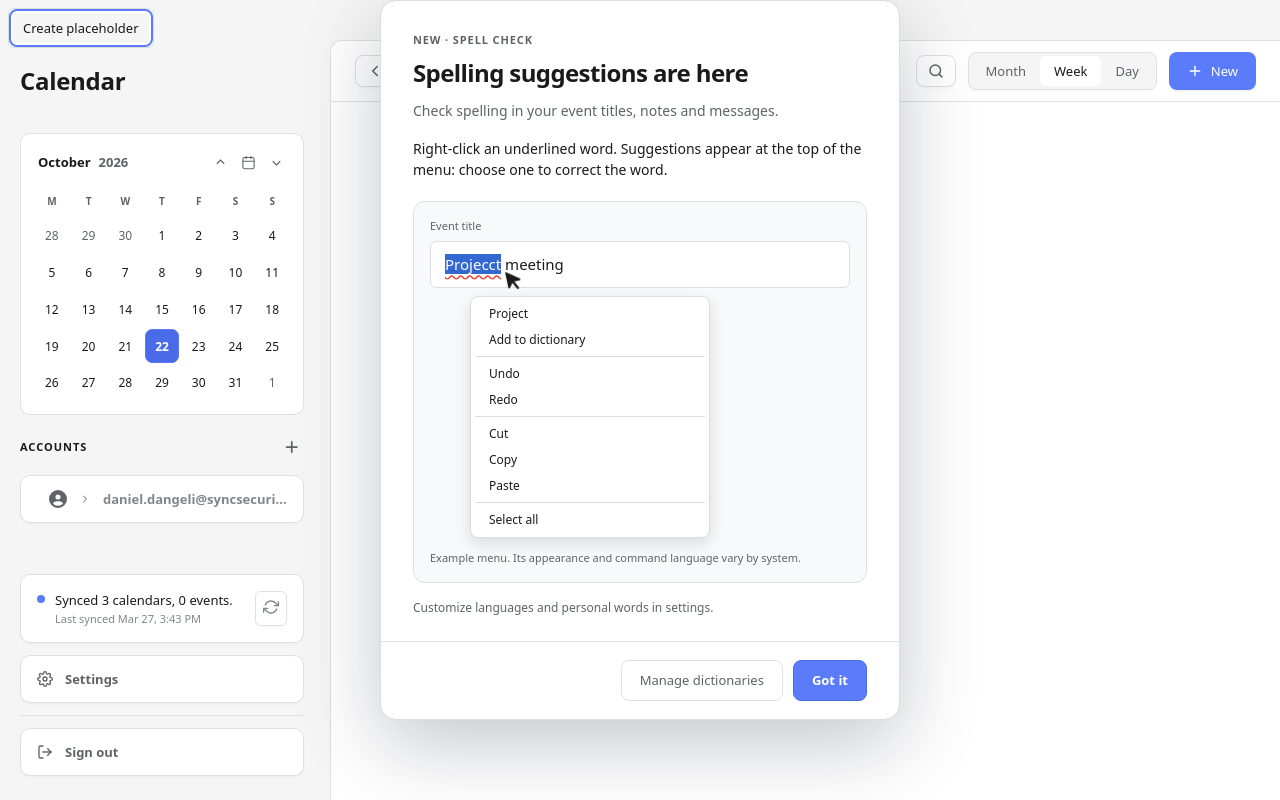
app startup › creates a placeholder with title '  Preparazione riunione  ' as 'Preparazione riunione' in en
The image size is (1280, 800).
Click the menu item "Create placeholder" at (81, 28), box [13, 13, 148, 43]
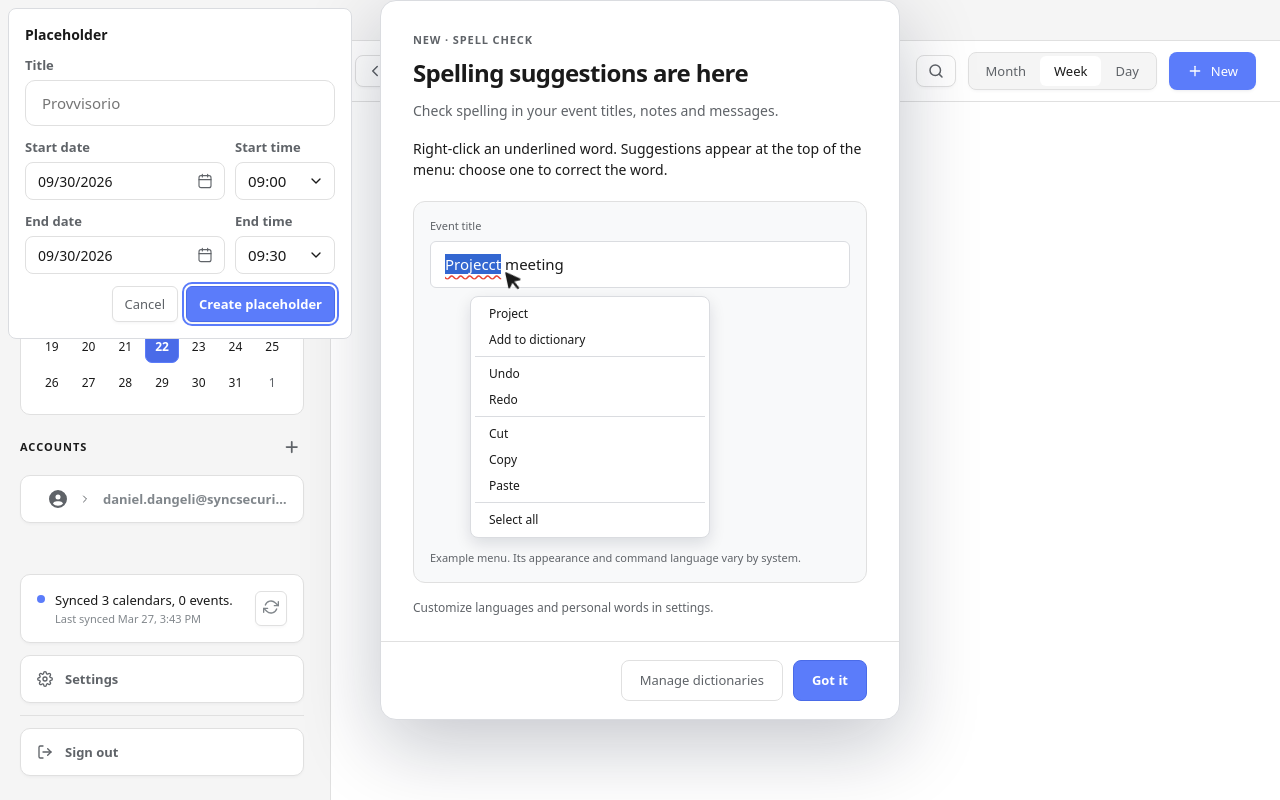
Type "  Preparazione riunione  " into the field labelled "Title" at (180, 103), box [25, 80, 335, 126]
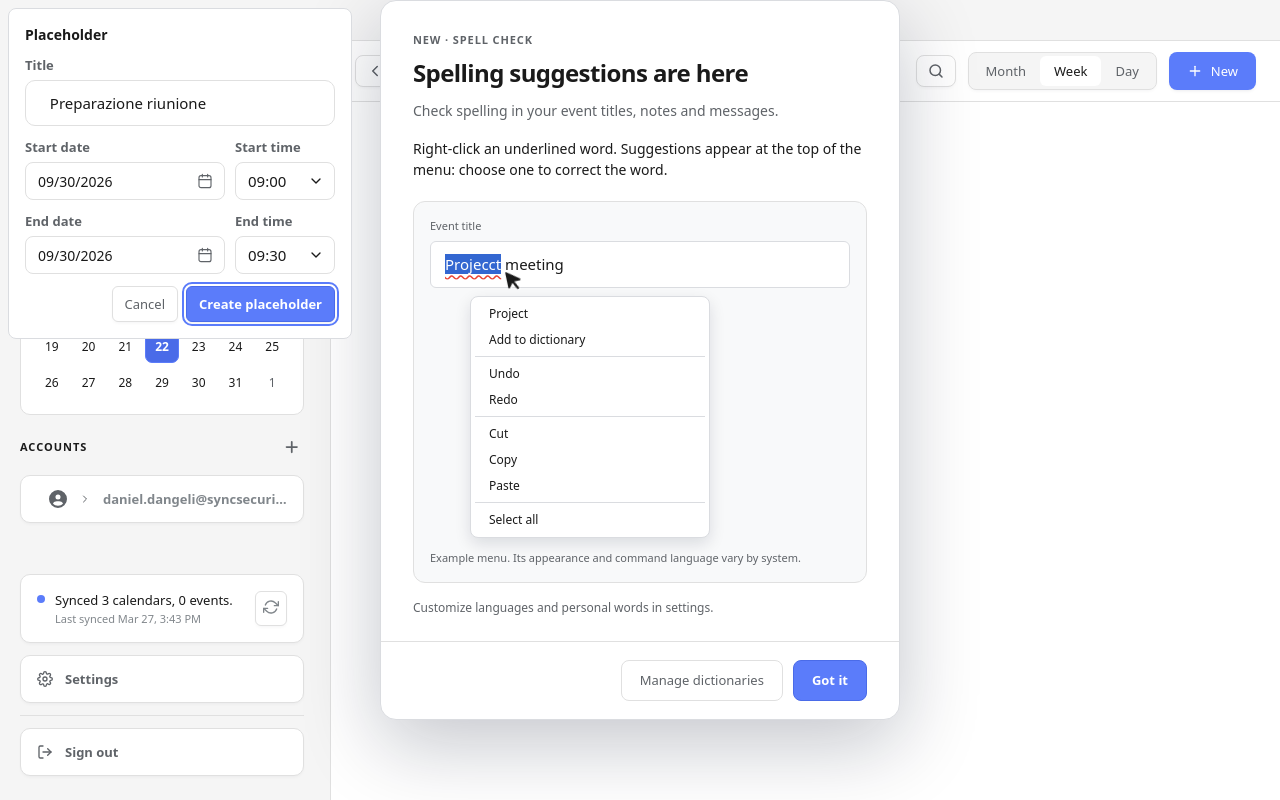
Click the button "Create placeholder" at (260, 304), box [186, 286, 335, 322]
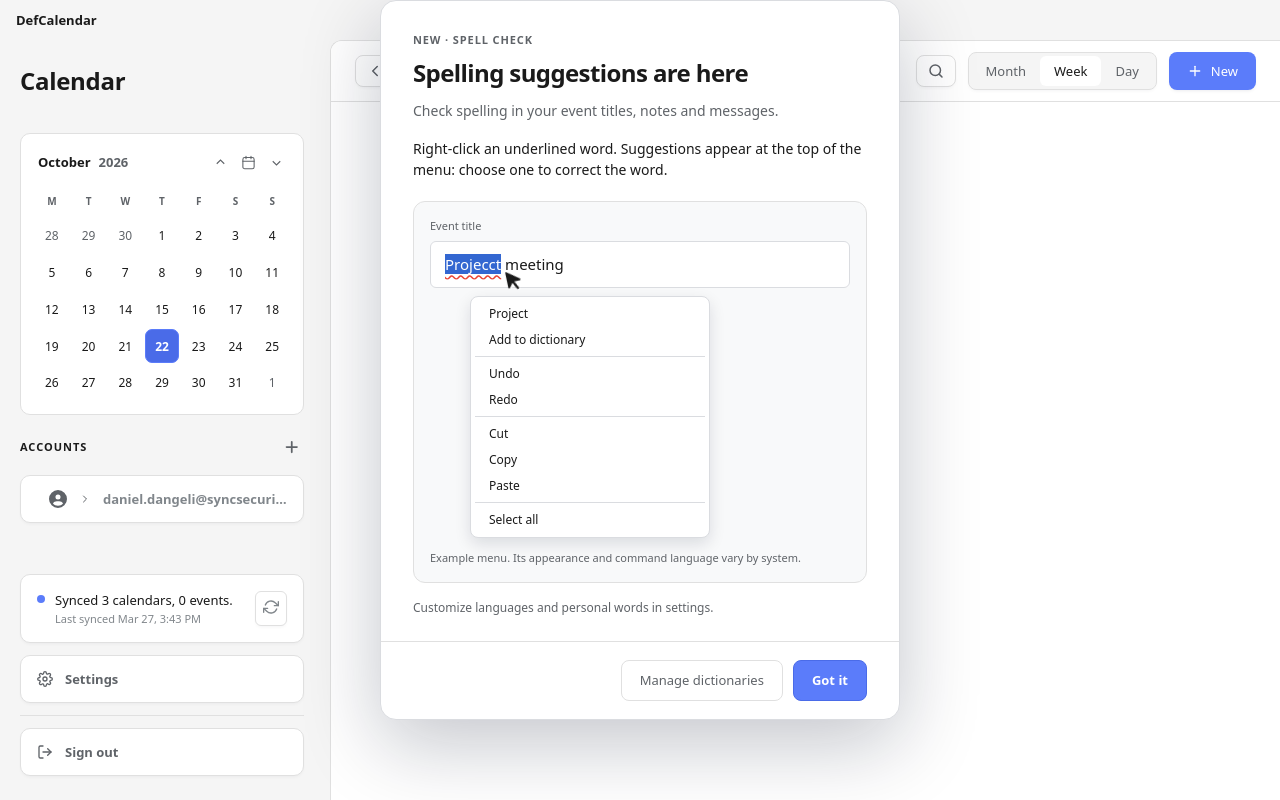
Check: the heading "Placeholder" is gone
